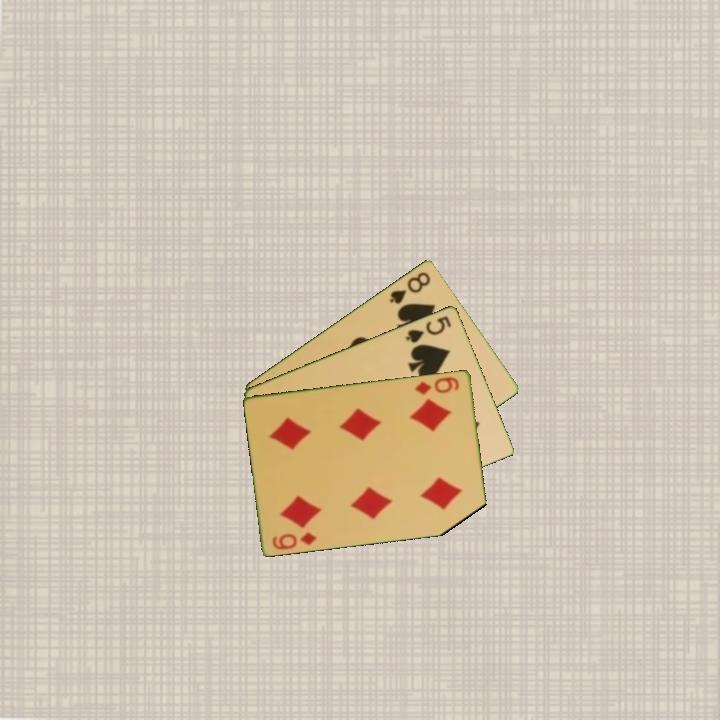5s: (402, 312, 454, 346)
6d: (411, 373, 462, 397), (269, 528, 320, 552)
8s: (385, 268, 433, 306)
